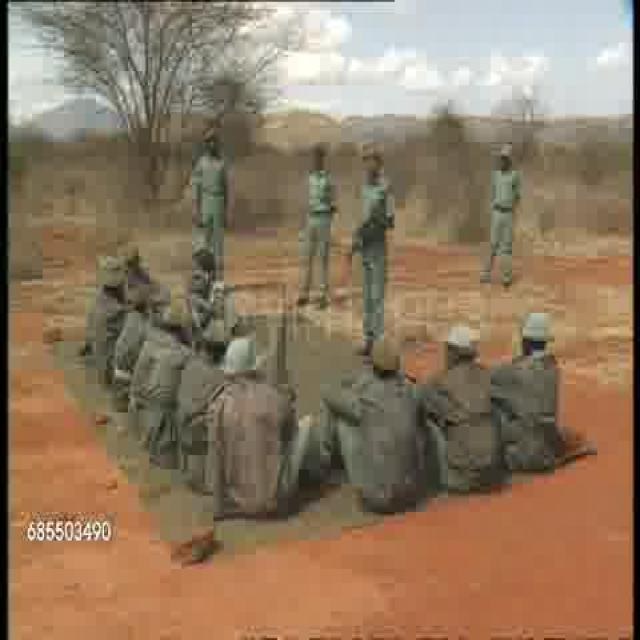poacher: (210, 336, 298, 514), (510, 309, 602, 473), (334, 332, 426, 494), (431, 316, 502, 496), (349, 128, 394, 342), (290, 149, 342, 315), (186, 119, 236, 274), (483, 122, 521, 296), (185, 330, 220, 470)
